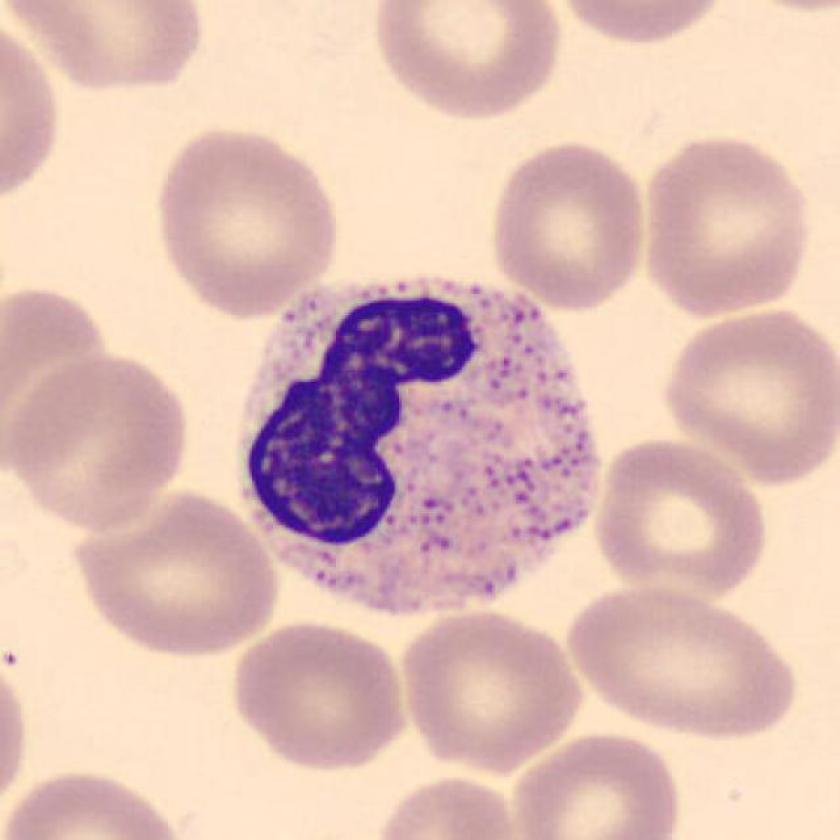neutrophil: (236, 278, 598, 614)
